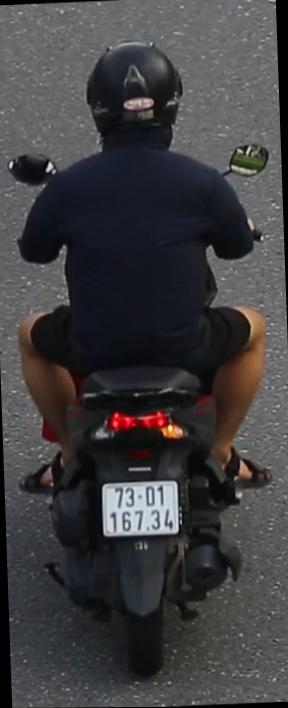LP: (99, 473, 181, 540)
helmet: (79, 26, 190, 169)
